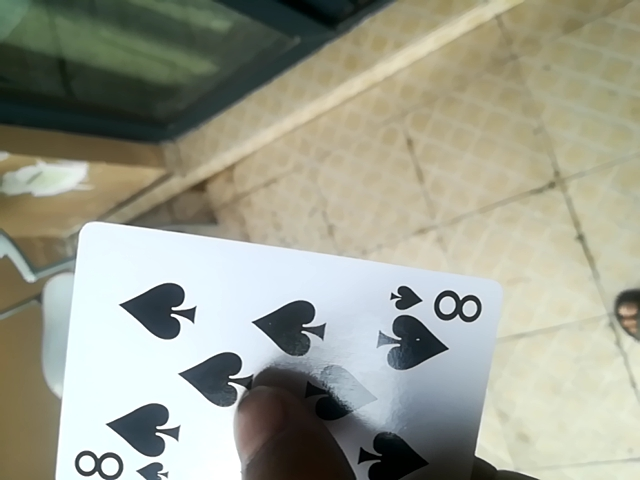ht 8: (47, 218, 509, 478)
